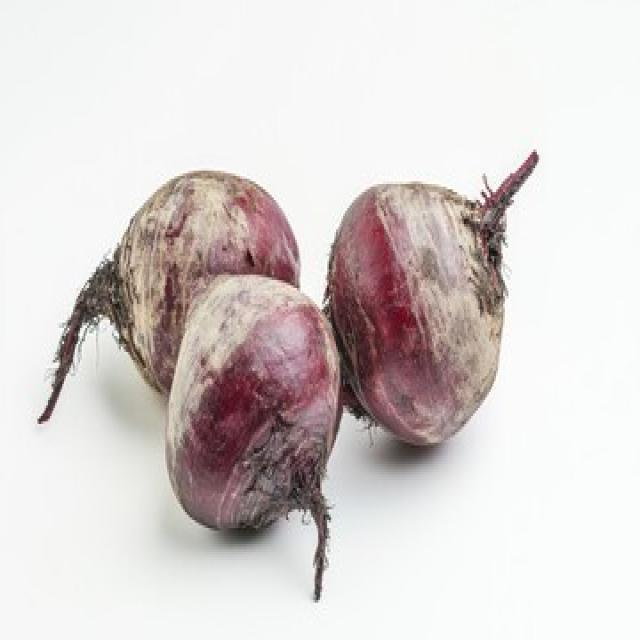Beetroot: (36, 147, 538, 600), (36, 165, 300, 424), (322, 147, 538, 448), (164, 269, 343, 600)
